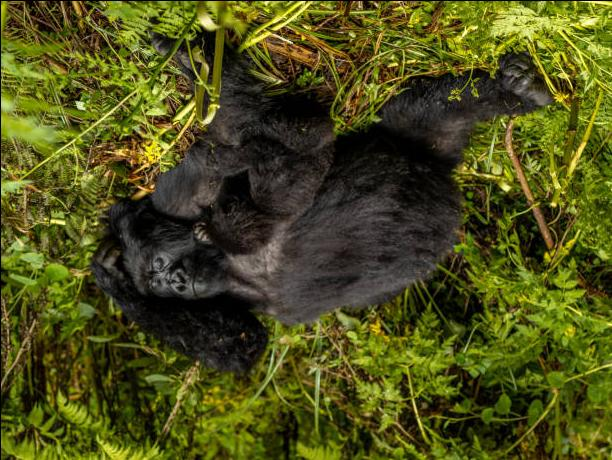goriile_montagne: (42, 57, 547, 376)
